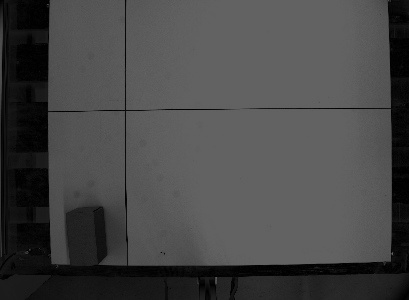b2: (63, 204, 109, 269)
